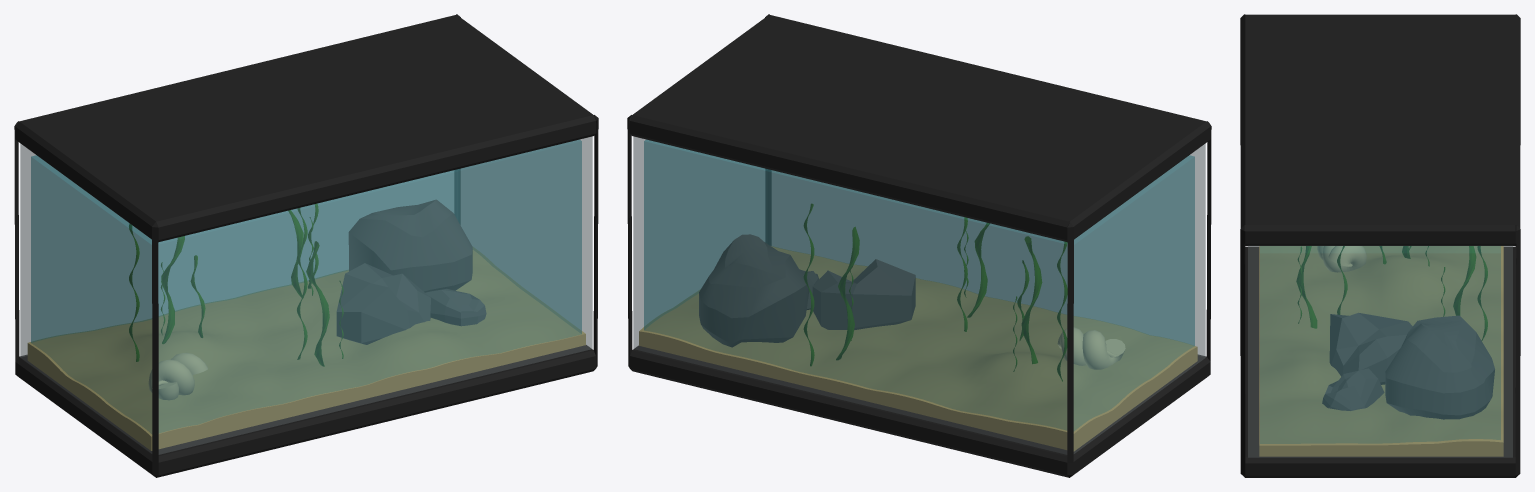
File: 水族箱.fbx
3 renders of one model, left to right at view 1: azimuth 30°, elevation 25°; view 2: azimuth 150°, elevation 25°; view 3: azimuth 270°, elevation 25°, orthographic.
Visible parts, largest first — view 1: polySurface35; view 2: polySurface35; view 3: polySurface35.
Part boxes in pixels (x1,y1,x2,y2): polySurface35: (14,14,598,477); polySurface35: (627,14,1211,477); polySurface35: (1240,14,1520,477).
Size of the model in its own units: 12.07 by 6.63 by 6.66.
